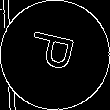P_E: (26, 32, 84, 78)
